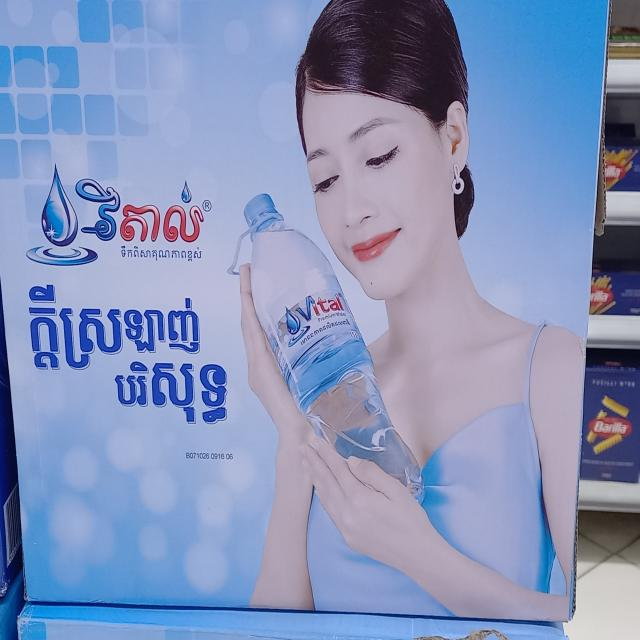382: (190, 451, 233, 461)
Yolov11_80vkh: (27, 280, 205, 381), (68, 160, 218, 249), (111, 352, 231, 430), (297, 310, 353, 350), (117, 242, 208, 264)
